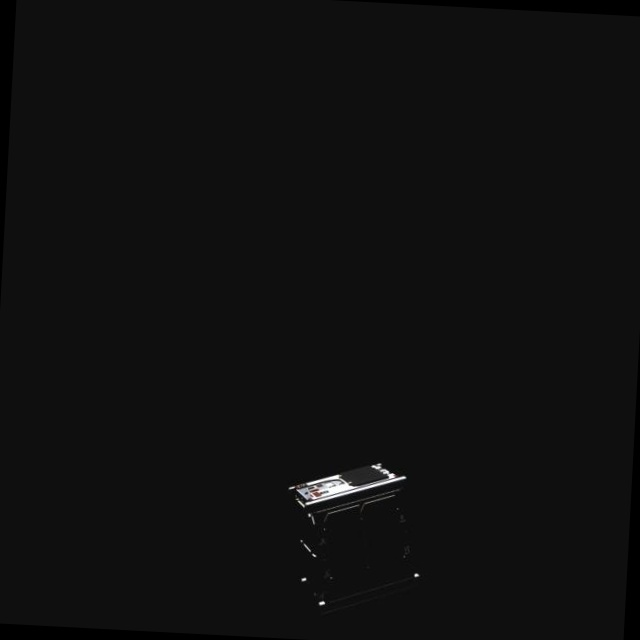medium_debris: (278, 449, 434, 619)
